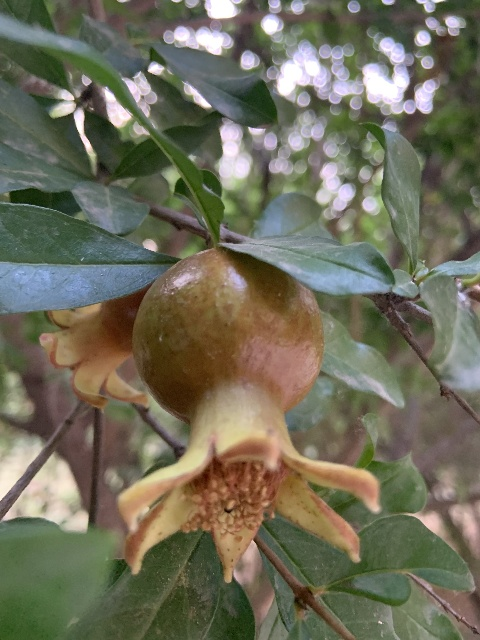early-fruit: (115, 249, 380, 583), (39, 279, 151, 411)
